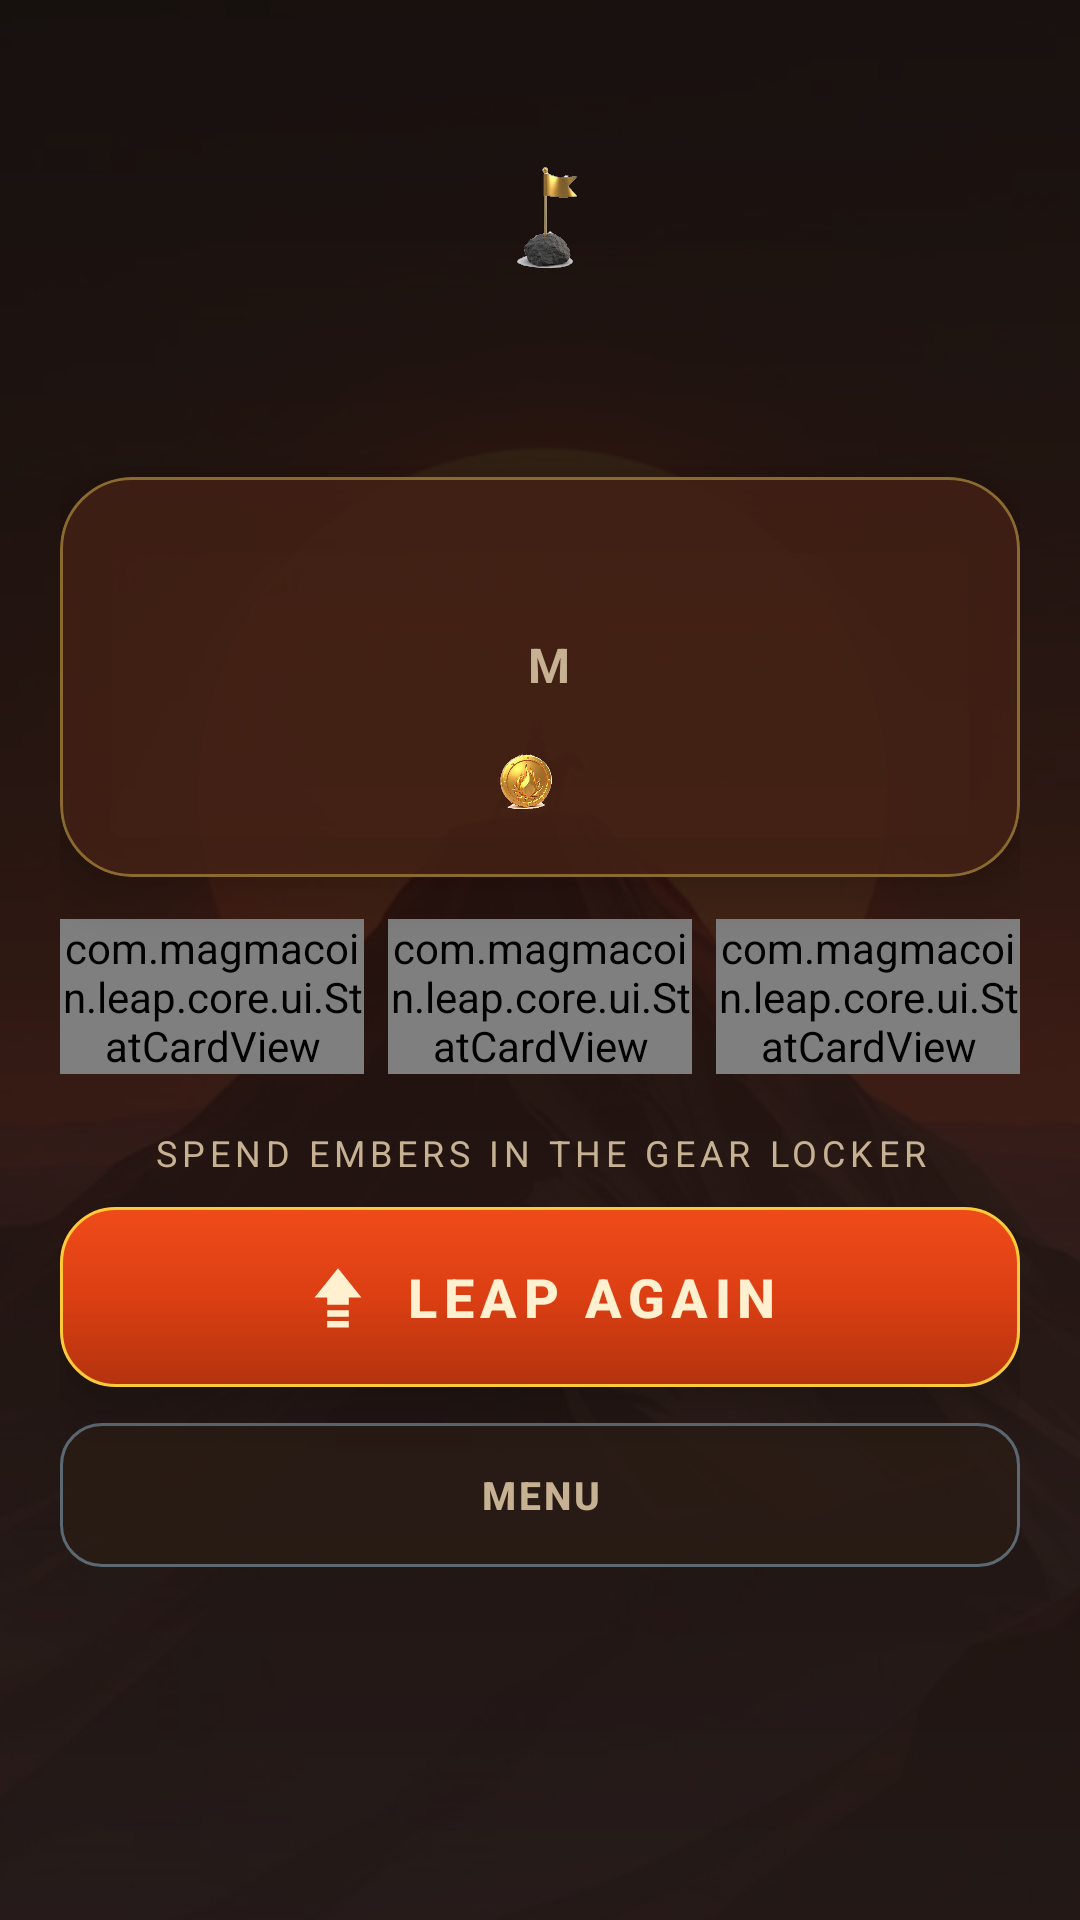

Icon click points for this 1080px×1920px phone screenshot, format (x=x, y=y):
Ember token: (x=526, y=781)
Summit flag: (x=547, y=217)
